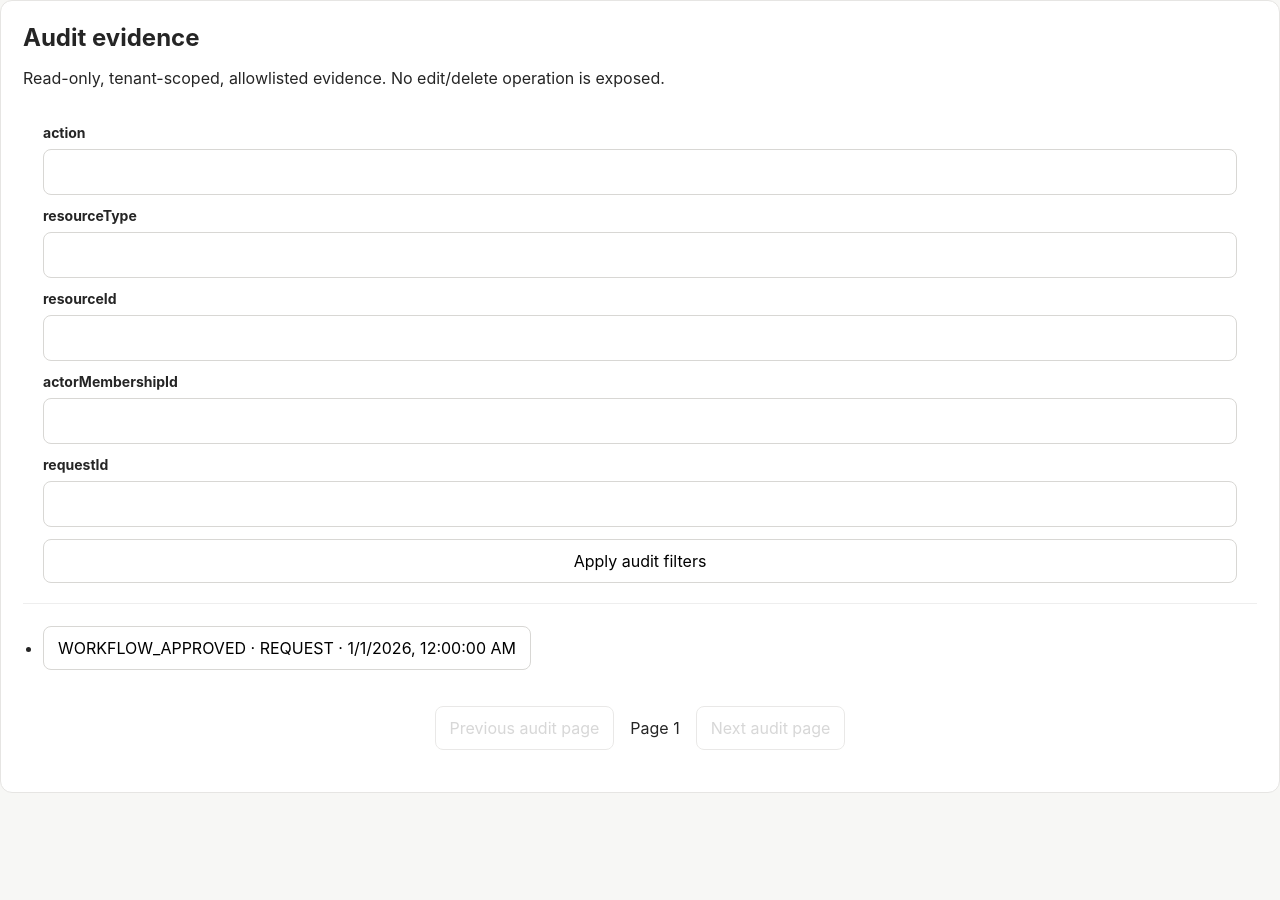
Test: browses audit metadata and allowlisted detail without mutation routes
Click the button "WORKFLOW_APPROVED · REQUEST · 1/1/2026, 12:00:00 AM": (287, 648) [43, 626, 531, 670]
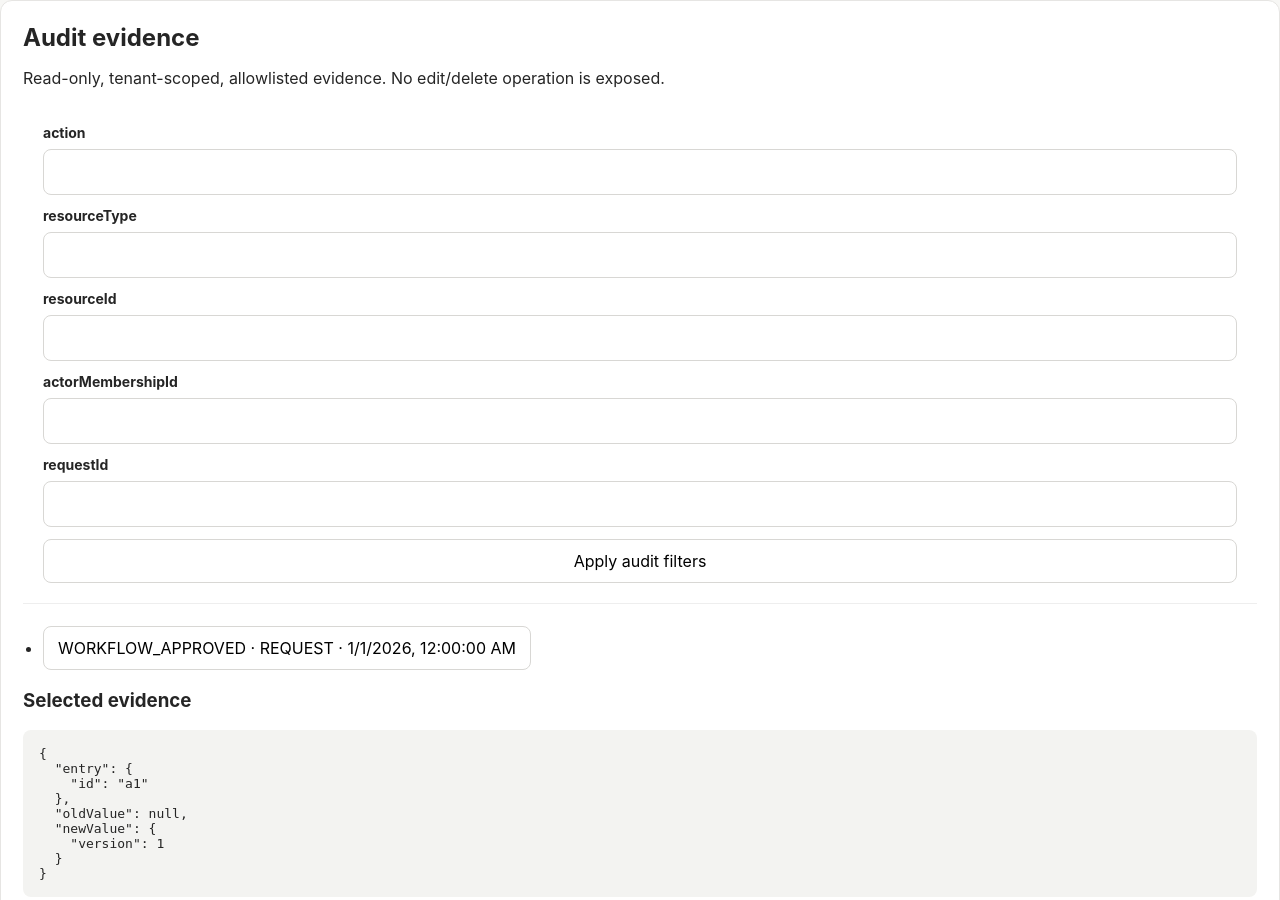
Expected: the text "\"newValue\"" is shown, [39, 746, 188, 881]
